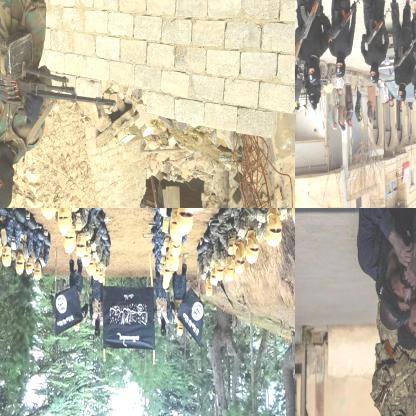rifle: (0, 35, 122, 123), (375, 344, 407, 414), (295, 0, 330, 60), (327, 0, 363, 43), (387, 33, 415, 75), (364, 6, 393, 43)
